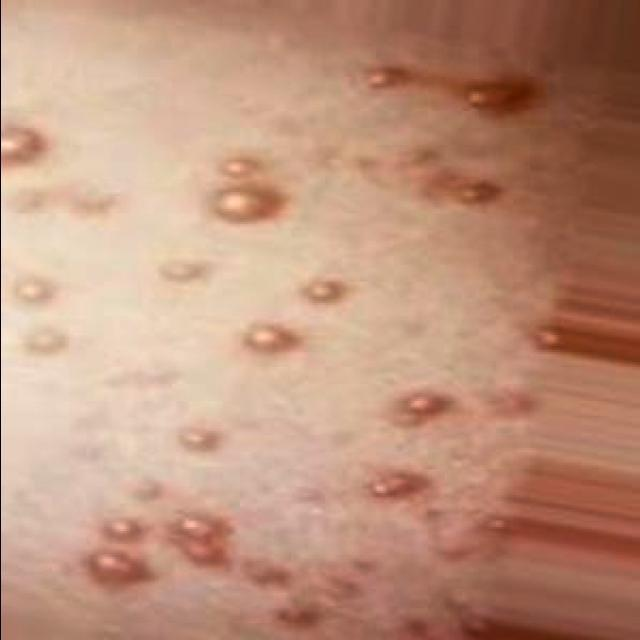Shingles: (211, 184, 280, 223), (86, 548, 146, 585), (465, 79, 528, 112), (393, 390, 450, 424), (2, 123, 46, 163), (368, 469, 421, 499), (243, 322, 294, 353), (176, 513, 218, 543), (451, 179, 499, 205), (303, 277, 347, 304), (158, 258, 205, 283), (71, 190, 116, 216), (24, 327, 67, 354), (219, 154, 263, 179), (101, 516, 143, 542), (14, 276, 54, 303), (178, 426, 219, 452), (366, 64, 406, 88), (534, 326, 564, 351), (482, 515, 512, 536)
